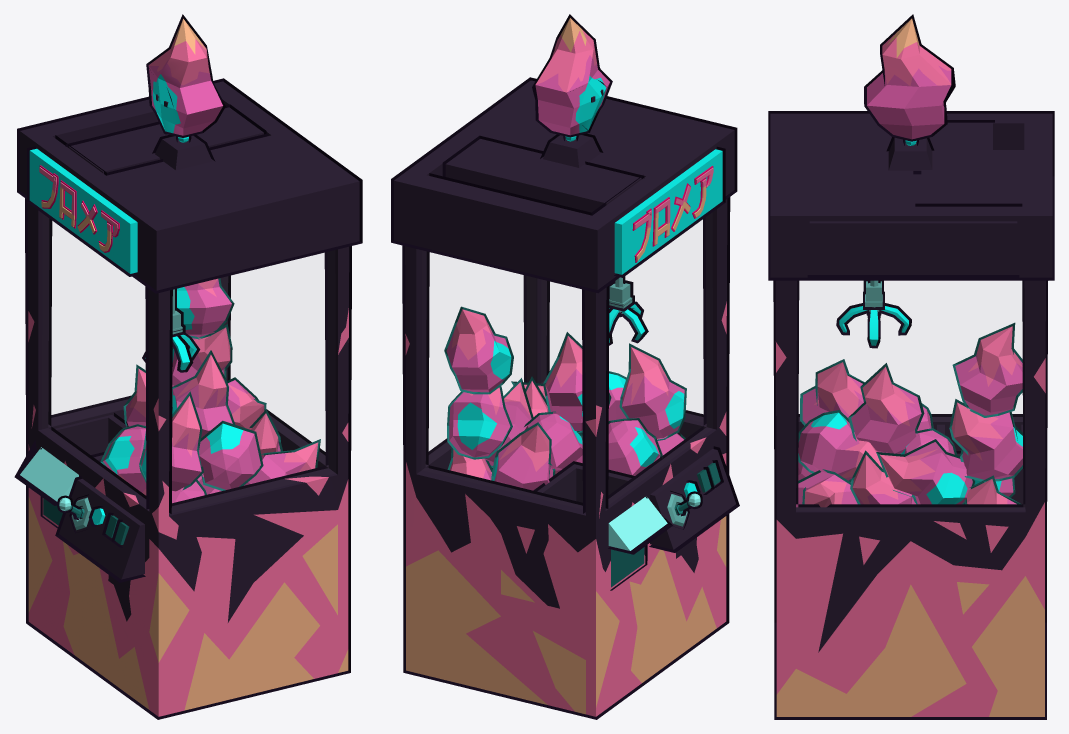
Rendered from machine.glb.
The picture shows the model from 3 angles, left to right: view 1: azimuth 30°, elevation 25°; view 2: azimuth 150°, elevation 25°; view 3: azimuth 270°, elevation 25°; orthographic projection. The views are drawn at different scales.
Visible parts, largest first — view 1: top2 (×2), top_deco1 (×2), pCube16 (×2), pCube10 (×2), pCube14, plush_template6, plush_template12, plush_template13, plush_template9, plush_template8, polySurface1, pCube9 (+10 smaller); view 2: top2 (×2), pCube14 (×2), top_deco1 (×2), pCube16 (×2), plush_template13 (×2), plush_template9 (×2), pCube10 (×2), plush_template11, plush_template4, plush_template12, plush_template8, polySurface1 (+11 smaller); view 3: top2 (×2), pCube16 (×2), top_deco1 (×2), pCube14, plush_template13 (×2), plush_template12 (×2), plush_template11 (×2), plush_template10, plush_template6, claw (×2), plush_template9, plush_template1 (+4 smaller).
Part boxes in pixels (box(x1,y1,x2,y2)): top2 (×2): box(17, 78, 362, 719); top_deco1 (×2): box(146, 14, 225, 137); pCube16 (×2): box(27, 146, 137, 276); pCube10 (×2): box(55, 476, 145, 582); pCube14: box(68, 107, 263, 173); plush_template6: box(198, 423, 260, 489); plush_template12: box(172, 355, 232, 437); plush_template13: box(177, 278, 231, 337); plush_template9: box(141, 396, 201, 491); plush_template8: box(103, 426, 146, 495); polySurface1: box(20, 447, 78, 501); pCube9: box(55, 415, 127, 461); top2 (×2): box(391, 77, 737, 719); pCube14 (×2): box(442, 135, 644, 212); top_deco1 (×2): box(532, 14, 612, 137); pCube16 (×2): box(614, 146, 725, 277); plush_template13 (×2): box(444, 306, 513, 394); plush_template9 (×2): box(619, 343, 686, 440); pCube10 (×2): box(649, 446, 739, 552); plush_template11: box(449, 387, 510, 457); plush_template4: box(493, 425, 552, 490); plush_template12: box(545, 336, 582, 430); plush_template8: box(608, 420, 660, 475); polySurface1: box(608, 496, 667, 550); top2 (×2): box(768, 111, 1054, 719); pCube16 (×2): box(807, 221, 1019, 277); top_deco1 (×2): box(864, 14, 955, 141); pCube14: box(921, 123, 992, 203); plush_template13 (×2): box(952, 322, 1022, 417); plush_template12 (×2): box(848, 363, 924, 453); plush_template11 (×2): box(949, 399, 1022, 482); plush_template10: box(880, 442, 972, 504); plush_template6: box(798, 412, 882, 480); claw (×2): box(836, 280, 911, 348); plush_template9: box(802, 362, 863, 423); plush_template1: box(852, 455, 915, 504).
Size of the model in its own units: 4.04 by 10.1 by 4.
